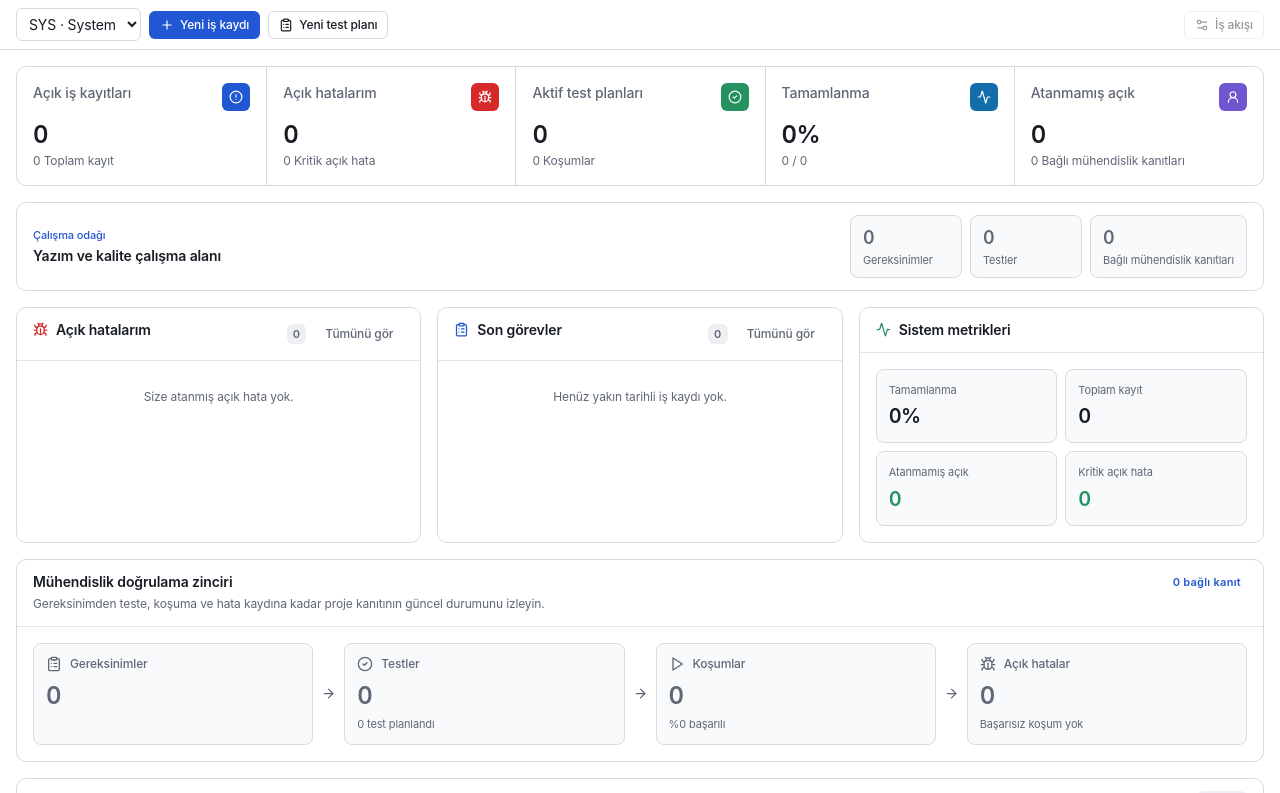
Test case: WorkManagementPage projects › keeps creation actions available while separating focused sections
What coordinates should you click on to do the following:
click the button with test id "open-create-item"
I would click on:
 (205, 24)
Its box is top-left (149, 10), bottom-right (260, 38).
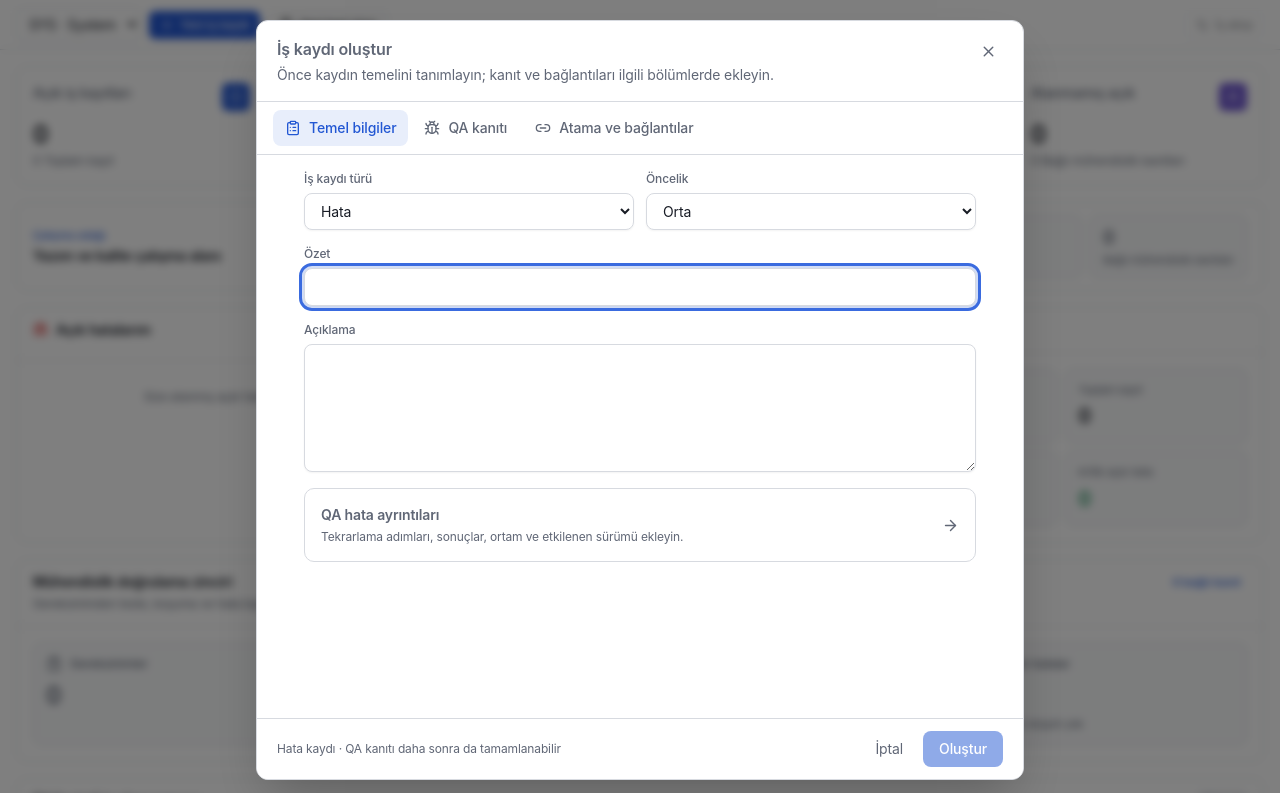
Expected: the button with test id "create-work-item-submit" is shown, top-left (923, 731), bottom-right (1003, 767)
What coordinates should you click on to do the following:
click the tab with test id "create-section-qa"
I would click on:
 (466, 128)
Its box is top-left (412, 110), bottom-right (519, 146).
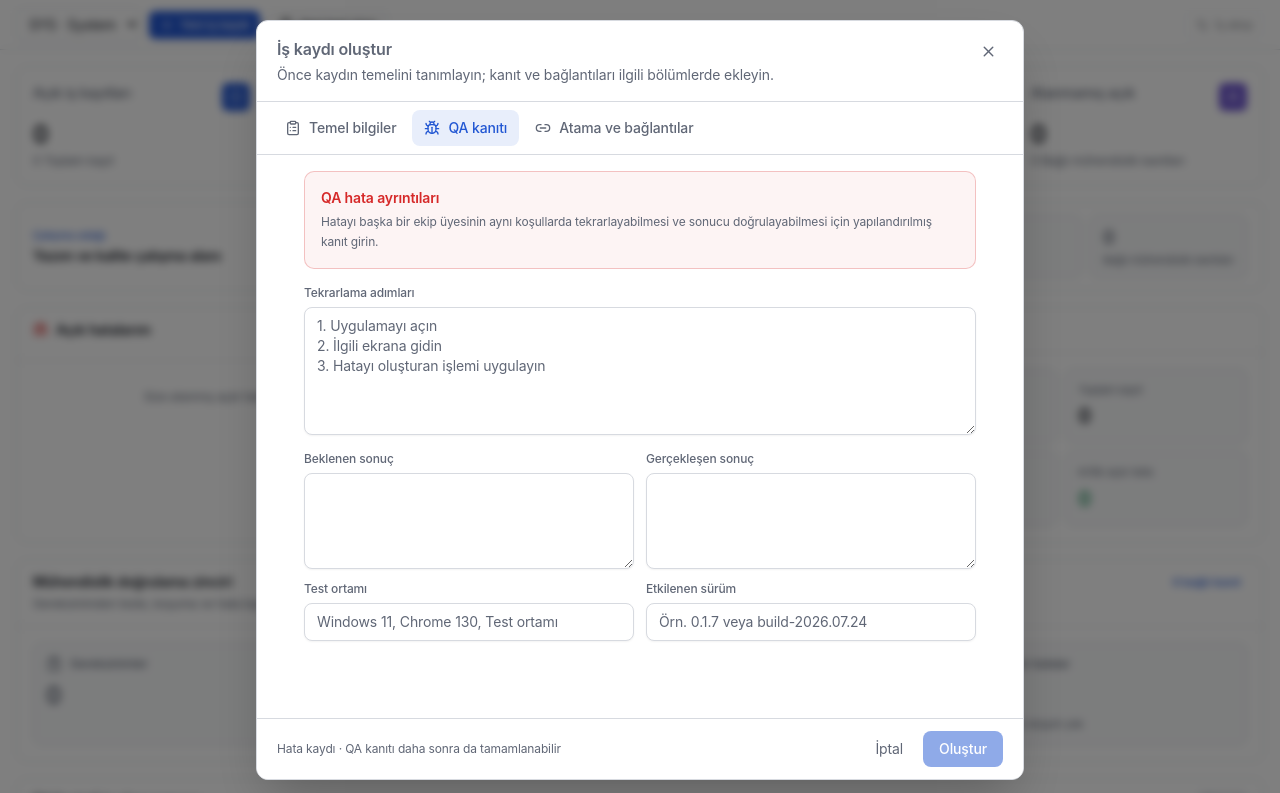
Expected: the button with test id "create-work-item-submit" is shown, top-left (923, 731), bottom-right (1003, 767)
Expected: the text box with test id "work-item-steps" is shown, top-left (304, 307), bottom-right (976, 435)
What coordinates should you click on to do the following:
click the tab with test id "create-section-relations"
I would click on:
 (614, 128)
Its box is top-left (523, 110), bottom-right (706, 146).
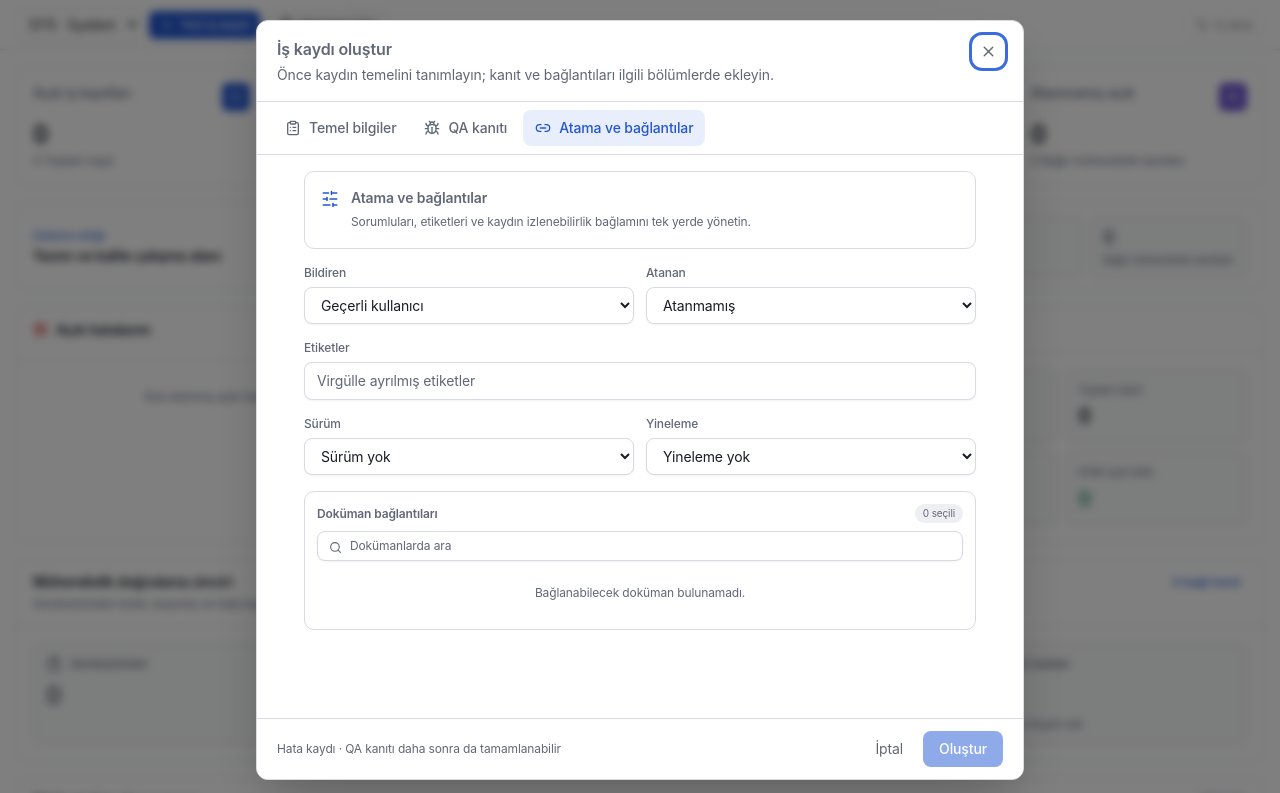
Expected: the field with test id "work-item-labels" is shown, top-left (304, 362), bottom-right (976, 400)
Expected: the text box with test id "work-item-steps" is gone
